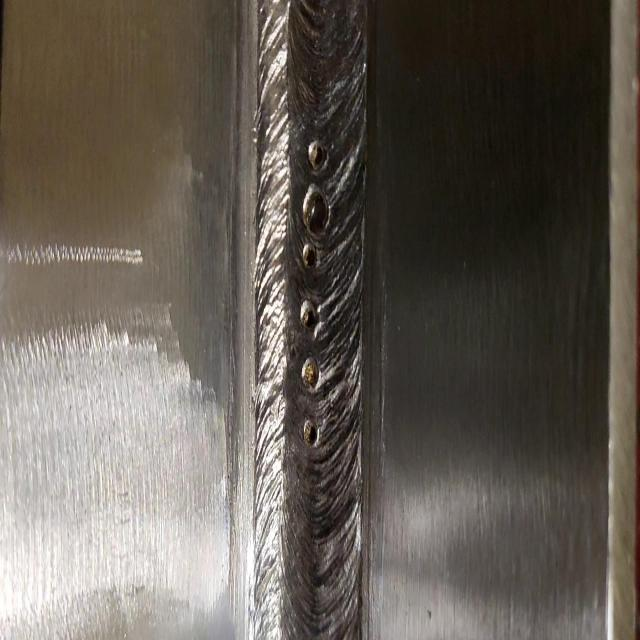Welding Line: (259, 12, 362, 640)
porosity: (300, 138, 334, 446)
